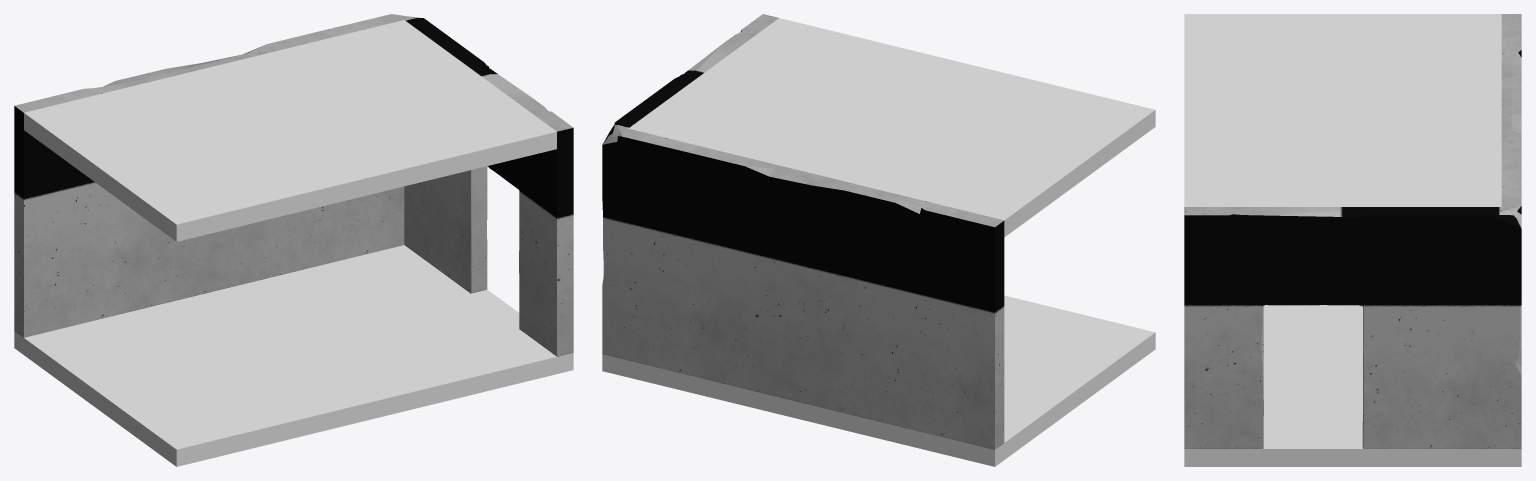
File: SM_StorageB_JanitorsRoom_01.fbx
3 renders of one model, left to right at view 1: azimuth 30°, elevation 25°; view 2: azimuth 150°, elevation 25°; view 3: azimuth 270°, elevation 25°, orthographic. The views are drawn at different scales.
Visible parts, largest first — view 1: SM_StorageBJanitorsRoom_Floor_01, SM_StorageBJanitorsRoom_Roof_01, SM_StorageBJanitorsRoom_Wall_03; view 2: SM_StorageBJanitorsRoom_Wall_03, SM_StorageBJanitorsRoom_Roof_01, SM_StorageBJanitorsRoom_Floor_01; view 3: SM_StorageBJanitorsRoom_Wall_03, SM_StorageBJanitorsRoom_Roof_01, SM_StorageBJanitorsRoom_Floor_01.
Boxes of the visible parts, bbox=[...] form: SM_StorageBJanitorsRoom_Floor_01: bbox=[14, 245, 573, 466]; SM_StorageBJanitorsRoom_Roof_01: bbox=[24, 20, 556, 241]; SM_StorageBJanitorsRoom_Wall_03: bbox=[14, 14, 573, 356]; SM_StorageBJanitorsRoom_Wall_03: bbox=[602, 14, 1004, 449]; SM_StorageBJanitorsRoom_Roof_01: bbox=[628, 18, 1155, 237]; SM_StorageBJanitorsRoom_Floor_01: bbox=[602, 295, 1155, 466]; SM_StorageBJanitorsRoom_Wall_03: bbox=[1184, 14, 1521, 448]; SM_StorageBJanitorsRoom_Roof_01: bbox=[1184, 14, 1501, 206]; SM_StorageBJanitorsRoom_Floor_01: bbox=[1184, 305, 1521, 466].
Bounding box in the file's own units: 600 × 350 × 425.
